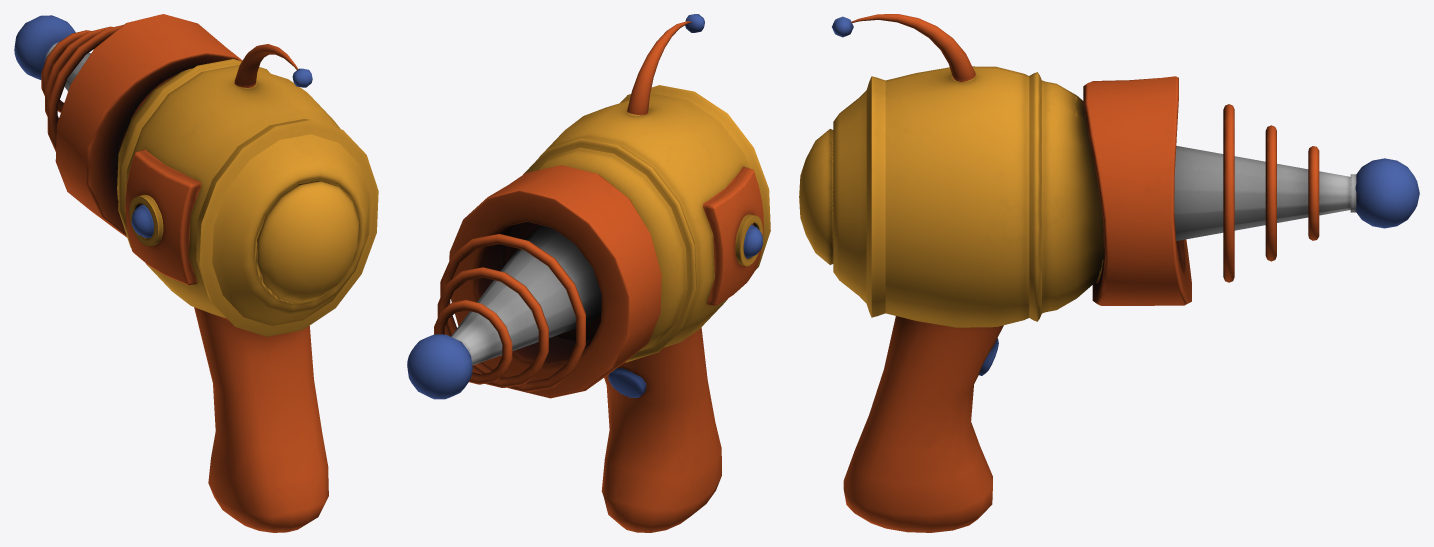
File: Toy Gun 2.fbx
The picture shows the model from 3 angles, left to right: view 1: azimuth 30°, elevation 25°; view 2: azimuth 150°, elevation 25°; view 3: azimuth 270°, elevation 25°; orthographic projection. The views are drawn at different scales.
Visible parts, largest first — view 1: Toy_Gun_2; view 2: Toy_Gun_2; view 3: Toy_Gun_2.
Boxes of the visible parts, bbox=[...] form: Toy_Gun_2: bbox=[14, 14, 378, 532]; Toy_Gun_2: bbox=[407, 14, 770, 532]; Toy_Gun_2: bbox=[799, 14, 1419, 532].
Bounding box in the file's own units: 11.39 × 24.48 × 26.92.
1 material, 1 textured.
